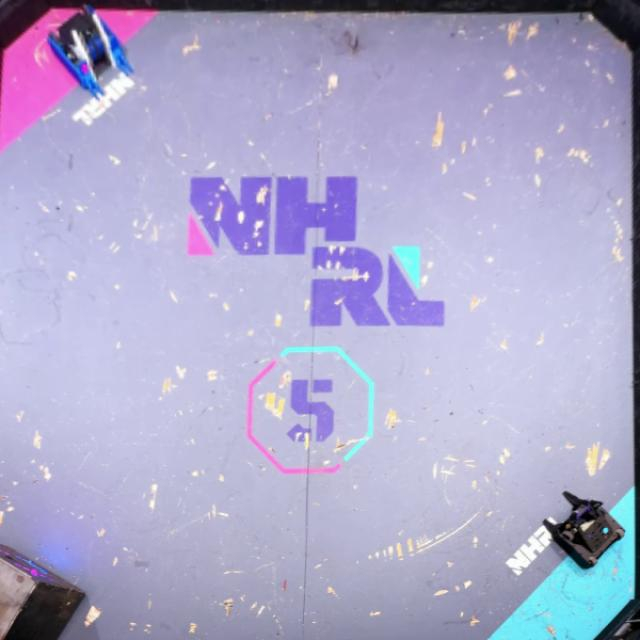housebot: (0, 539, 88, 640)
robot: (45, 7, 136, 99), (541, 491, 627, 571)
